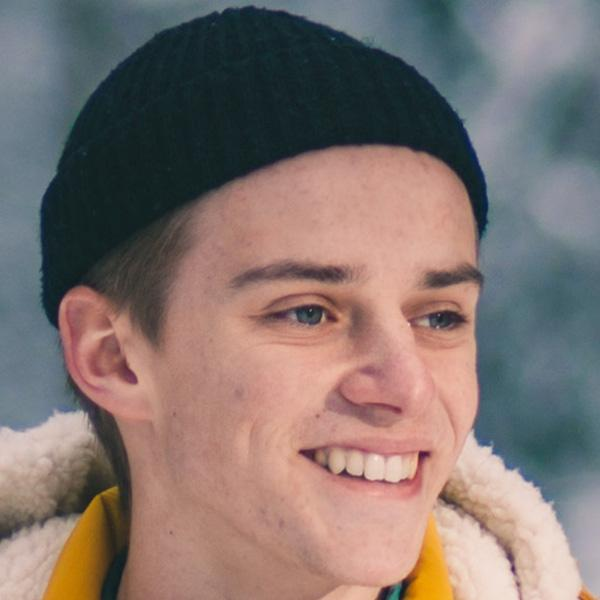Eyes: (249, 284, 344, 342), (396, 288, 469, 345)
